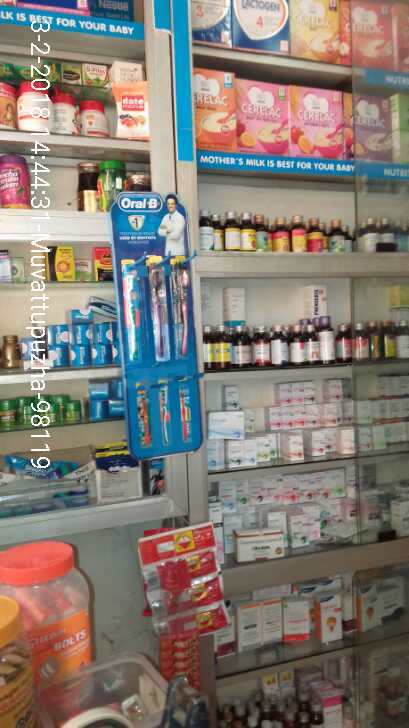oralb: (144, 258, 180, 359), (170, 265, 200, 357), (122, 272, 141, 360)
